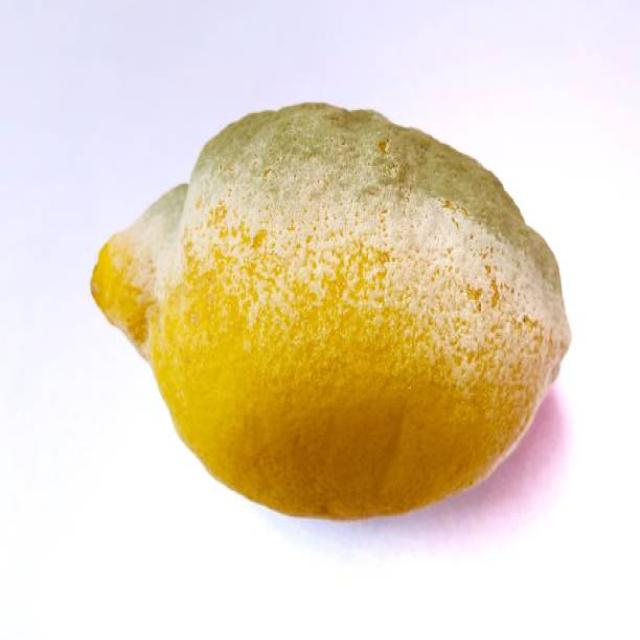Rotten: (91, 101, 572, 524)
